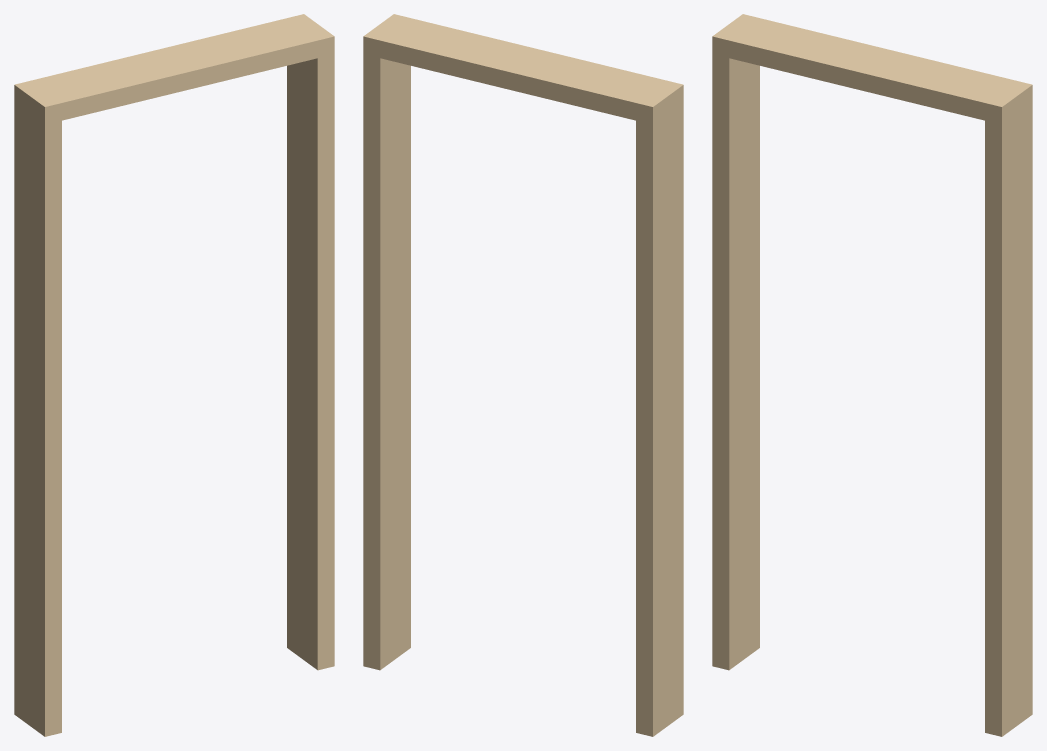
Rendered from door_open.glb.
The picture shows the model from 3 angles, left to right: view 1: azimuth 30°, elevation 25°; view 2: azimuth 150°, elevation 25°; view 3: azimuth 330°, elevation 25°; orthographic projection.
Visible parts, largest first — view 1: doorwayOpen; view 2: doorwayOpen; view 3: doorwayOpen.
Boxes of the visible parts, x1=… form: doorwayOpen: x1=14, y1=14, x2=334, y2=736; doorwayOpen: x1=363, y1=14, x2=683, y2=736; doorwayOpen: x1=712, y1=14, x2=1032, y2=736.
Size of the model in its own units: 4.86 by 10.1 by 0.891.
